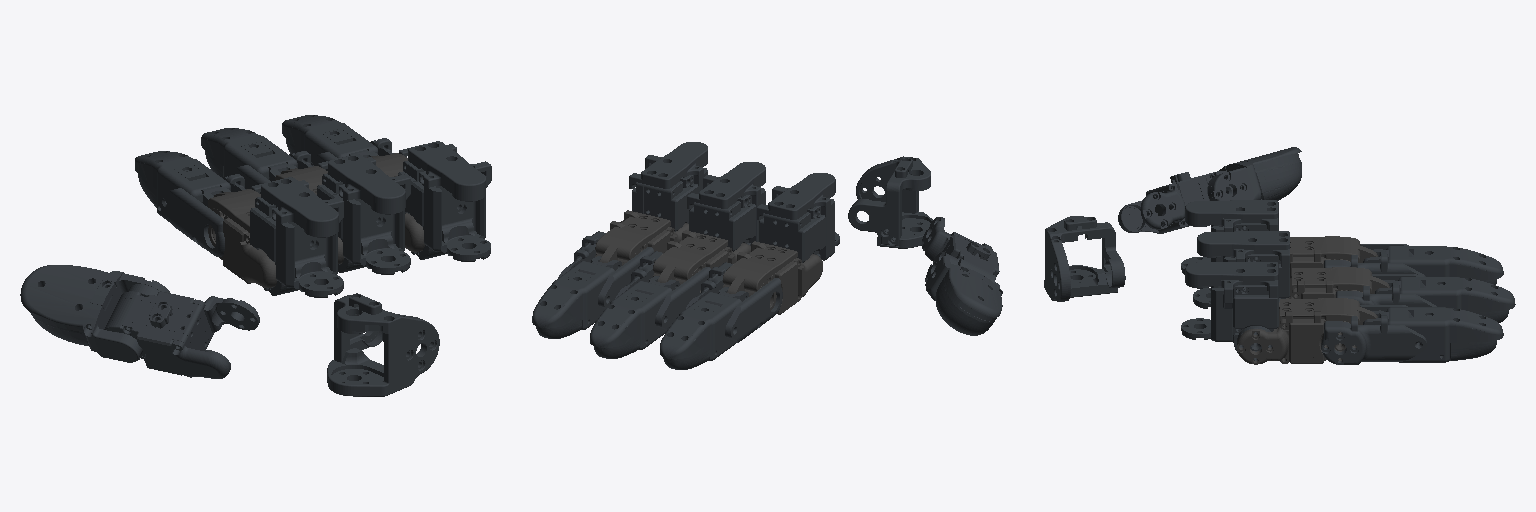
URDF robot description (deephand_hand_urdf):
<robot name="deephand_hand_urdf">
  <link name="index_dip_link">
    <inertial>
      <mass value="0.0114567" />
      <origin xyz="0.000380437 0.00968654 -0.00850519" rpy="0 -0 0" />
      <inertia ixx="2.03595e-06" ixy="-8.89059e-08" ixz="7.028e-11" iyy="6.08148e-07" iyz="-1.25405e-09" izz="2.06249e-06" />
    </inertial>
    <visual>
      <origin xyz="1.37822e-09 -0.033 0" rpy="0 -0 0" />
      <geometry>
        <mesh filename="package://deephand_hand_urdf/meshes/Finger_DIP.stl" scale="1 1 1" />
      </geometry>
      <material name="0.262745_0.282353_0.301961_0.000000_0.000000">
        <color rgba="0.262745 0.282353 0.301961 1" />
      </material>
    </visual>
  </link>
  <link name="ring_dip_link">
    <inertial>
      <mass value="0.0114567" />
      <origin xyz="0.000380437 0.00968654 -0.00850519" rpy="0 -0 0" />
      <inertia ixx="2.03595e-06" ixy="-8.89059e-08" ixz="7.028e-11" iyy="6.08148e-07" iyz="-1.25405e-09" izz="2.06249e-06" />
    </inertial>
    <visual>
      <origin xyz="1.37822e-09 -0.033 0" rpy="0 -0 0" />
      <geometry>
        <mesh filename="package://deephand_hand_urdf/meshes/Finger_DIP.stl" scale="1 1 1" />
      </geometry>
      <material name="0.262745_0.282353_0.301961_0.000000_0.000000">
        <color rgba="0.262745 0.282353 0.301961 1" />
      </material>
    </visual>
  </link>
  <link name="middle_dip_link">
    <inertial>
      <mass value="0.0114567" />
      <origin xyz="0.000380437 0.00968654 -0.00850519" rpy="0 -0 0" />
      <inertia ixx="2.03595e-06" ixy="-8.89059e-08" ixz="7.028e-11" iyy="6.08148e-07" iyz="-1.25405e-09" izz="2.06249e-06" />
    </inertial>
    <visual>
      <origin xyz="1.37822e-09 -0.033 0" rpy="0 -0 0" />
      <geometry>
        <mesh filename="package://deephand_hand_urdf/meshes/Finger_DIP.stl" scale="1 1 1" />
      </geometry>
      <material name="0.262745_0.282353_0.301961_0.000000_0.000000">
        <color rgba="0.262745 0.282353 0.301961 1" />
      </material>
    </visual>
  </link>
  <link name="index_dip_linkage">
    <inertial>
      <mass value="0.00161266" />
      <origin xyz="0.00154845 0.016128 -0.00467179" rpy="0 -0 0" />
      <inertia ixx="1.85154e-07" ixy="3.61565e-09" ixz="-1.81565e-09" iyy="4.94859e-08" iyz="6.8775e-08" izz="1.55131e-07" />
    </inertial>
    <visual>
      <origin xyz="-0.0267056 -0.0912302 -0.00791515" rpy="0 -0 0" />
      <geometry>
        <mesh filename="package://deephand_hand_urdf/meshes/Finger_DIP_Linkage.stl" scale="1 1 1" />
      </geometry>
      <material name="0.262745_0.282353_0.301961_0.000000_0.000000">
        <color rgba="0.262745 0.282353 0.301961 1" />
      </material>
    </visual>
  </link>
  <link name="ring_dip_linkage">
    <inertial>
      <mass value="0.00161266" />
      <origin xyz="0.00154845 0.016128 -0.00467179" rpy="0 -0 0" />
      <inertia ixx="1.85154e-07" ixy="3.61565e-09" ixz="-1.81565e-09" iyy="4.94859e-08" iyz="6.8775e-08" izz="1.55131e-07" />
    </inertial>
    <visual>
      <origin xyz="-0.0267056 -0.0912302 -0.00791515" rpy="0 -0 0" />
      <geometry>
        <mesh filename="package://deephand_hand_urdf/meshes/Finger_DIP_Linkage.stl" scale="1 1 1" />
      </geometry>
      <material name="0.262745_0.282353_0.301961_0.000000_0.000000">
        <color rgba="0.262745 0.282353 0.301961 1" />
      </material>
    </visual>
  </link>
  <link name="middle_dip_linkage">
    <inertial>
      <mass value="0.00161266" />
      <origin xyz="0.00154845 0.016128 -0.00467179" rpy="0 -0 0" />
      <inertia ixx="1.85154e-07" ixy="3.61565e-09" ixz="-1.81565e-09" iyy="4.94859e-08" iyz="6.8775e-08" izz="1.55131e-07" />
    </inertial>
    <visual>
      <origin xyz="-0.0267056 -0.0912302 -0.00791515" rpy="0 -0 0" />
      <geometry>
        <mesh filename="package://deephand_hand_urdf/meshes/Finger_DIP_Linkage.stl" scale="1 1 1" />
      </geometry>
      <material name="0.262745_0.282353_0.301961_0.000000_0.000000">
        <color rgba="0.262745 0.282353 0.301961 1" />
      </material>
    </visual>
  </link>
  <link name="index_mcp_pitch_link">
    <inertial>
      <mass value="0.0192133" />
      <origin xyz="-0.0126413 0.0246664 0.00129496" rpy="0 -0 0" />
      <inertia ixx="3.15147e-06" ixy="8.95406e-08" ixz="2.96071e-08" iyy="1.55904e-06" iyz="-8.16764e-08" izz="3.41992e-06" />
    </inertial>
    <visual>
      <origin xyz="-0.0429682 -0.0441386 -0.003" rpy="0 -0 0" />
      <geometry>
        <mesh filename="package://deephand_hand_urdf/meshes/Finger_MCP_Pitch.stl" scale="1 1 1" />
      </geometry>
      <material name="0.301961_0.301961_0.301961_0.000000_0.000000">
        <color rgba="0.301961 0.301961 0.301961 1" />
      </material>
    </visual>
  </link>
  <link name="ring_mcp_pitch_link">
    <inertial>
      <mass value="0.0192133" />
      <origin xyz="-0.0126413 0.0246664 0.00129496" rpy="0 -0 0" />
      <inertia ixx="3.15147e-06" ixy="8.95406e-08" ixz="2.96071e-08" iyy="1.55904e-06" iyz="-8.16764e-08" izz="3.41992e-06" />
    </inertial>
    <visual>
      <origin xyz="-0.0429682 -0.0441386 -0.003" rpy="0 -0 0" />
      <geometry>
        <mesh filename="package://deephand_hand_urdf/meshes/Finger_MCP_Pitch.stl" scale="1 1 1" />
      </geometry>
      <material name="0.301961_0.301961_0.301961_0.000000_0.000000">
        <color rgba="0.301961 0.301961 0.301961 1" />
      </material>
    </visual>
  </link>
  <link name="middle_mcp_pitch_link">
    <inertial>
      <mass value="0.0192133" />
      <origin xyz="-0.0126413 0.0246664 0.00129496" rpy="0 -0 0" />
      <inertia ixx="3.15147e-06" ixy="8.95406e-08" ixz="2.96071e-08" iyy="1.55904e-06" iyz="-8.16764e-08" izz="3.41992e-06" />
    </inertial>
    <visual>
      <origin xyz="-0.0429682 -0.0441386 -0.003" rpy="0 -0 0" />
      <geometry>
        <mesh filename="package://deephand_hand_urdf/meshes/Finger_MCP_Pitch.stl" scale="1 1 1" />
      </geometry>
      <material name="0.301961_0.301961_0.301961_0.000000_0.000000">
        <color rgba="0.301961 0.301961 0.301961 1" />
      </material>
    </visual>
  </link>
  <link name="index_mcp_abad_link">
    <inertial>
      <mass value="0.0222197" />
      <origin xyz="0.000159253 0.0197001 0.00842998" rpy="0 -0 0" />
      <inertia ixx="4.03009e-06" ixy="-1.46799e-08" ixz="6.78573e-08" iyy="3.26611e-06" iyz="2.59031e-07" izz="2.45075e-06" />
    </inertial>
    <visual>
      <origin xyz="-0.0306 -0.0203 -0.006" rpy="0 -0 0" />
      <geometry>
        <mesh filename="package://deephand_hand_urdf/meshes/Finger_MCP_Yaw.stl" scale="1 1 1" />
      </geometry>
      <material name="0.262745_0.282353_0.301961_0.000000_0.000000">
        <color rgba="0.262745 0.282353 0.301961 1" />
      </material>
    </visual>
  </link>
  <link name="ring_mcp_abad_link">
    <inertial>
      <mass value="0.0222197" />
      <origin xyz="0.000159253 0.0197001 0.00842998" rpy="0 -0 0" />
      <inertia ixx="4.03009e-06" ixy="-1.46799e-08" ixz="6.78573e-08" iyy="3.26611e-06" iyz="2.59031e-07" izz="2.45075e-06" />
    </inertial>
    <visual>
      <origin xyz="-0.0306 -0.0203 -0.006" rpy="0 -0 0" />
      <geometry>
        <mesh filename="package://deephand_hand_urdf/meshes/Finger_MCP_Yaw.stl" scale="1 1 1" />
      </geometry>
      <material name="0.262745_0.282353_0.301961_0.000000_0.000000">
        <color rgba="0.262745 0.282353 0.301961 1" />
      </material>
    </visual>
  </link>
  <link name="middle_mcp_abad_link">
    <inertial>
      <mass value="0.0222197" />
      <origin xyz="0.000159253 0.0197001 0.00842998" rpy="0 -0 0" />
      <inertia ixx="4.03009e-06" ixy="-1.46799e-08" ixz="6.78573e-08" iyy="3.26611e-06" iyz="2.59031e-07" izz="2.45075e-06" />
    </inertial>
    <visual>
      <origin xyz="-0.0306 -0.0203 -0.006" rpy="0 -0 0" />
      <geometry>
        <mesh filename="package://deephand_hand_urdf/meshes/Finger_MCP_Yaw.stl" scale="1 1 1" />
      </geometry>
      <material name="0.262745_0.282353_0.301961_0.000000_0.000000">
        <color rgba="0.262745 0.282353 0.301961 1" />
      </material>
    </visual>
  </link>
  <link name="index_pip_link">
    <inertial>
      <mass value="0.00581908" />
      <origin xyz="-0.0112551 0.0132696 -0.000739039" rpy="0 -0 0" />
      <inertia ixx="7.71892e-07" ixy="1.04945e-07" ixz="-3.43546e-08" iyy="7.98942e-07" iyz="3.40336e-08" izz="1.24735e-06" />
    </inertial>
    <visual>
      <origin xyz="-0.0420208 -0.0796259 -0.00293659" rpy="0 -0 0" />
      <geometry>
        <mesh filename="package://deephand_hand_urdf/meshes/Finger_PIP.stl" scale="1 1 1" />
      </geometry>
      <material name="0.262745_0.282353_0.301961_0.000000_0.000000">
        <color rgba="0.262745 0.282353 0.301961 1" />
      </material>
    </visual>
  </link>
  <link name="ring_pip_link">
    <inertial>
      <mass value="0.00581908" />
      <origin xyz="-0.0112551 0.0132696 -0.000739039" rpy="0 -0 0" />
      <inertia ixx="7.71892e-07" ixy="1.04945e-07" ixz="-3.43546e-08" iyy="7.98942e-07" iyz="3.40336e-08" izz="1.24735e-06" />
    </inertial>
    <visual>
      <origin xyz="-0.0420208 -0.0796259 -0.00293659" rpy="0 -0 0" />
      <geometry>
        <mesh filename="package://deephand_hand_urdf/meshes/Finger_PIP.stl" scale="1 1 1" />
      </geometry>
      <material name="0.262745_0.282353_0.301961_0.000000_0.000000">
        <color rgba="0.262745 0.282353 0.301961 1" />
      </material>
    </visual>
  </link>
  <link name="middle_pip_link">
    <inertial>
      <mass value="0.00581908" />
      <origin xyz="-0.0112551 0.0132696 -0.000739039" rpy="0 -0 0" />
      <inertia ixx="7.71892e-07" ixy="1.04945e-07" ixz="-3.43546e-08" iyy="7.98942e-07" iyz="3.40336e-08" izz="1.24735e-06" />
    </inertial>
    <visual>
      <origin xyz="-0.0420208 -0.0796259 -0.00293659" rpy="0 -0 0" />
      <geometry>
        <mesh filename="package://deephand_hand_urdf/meshes/Finger_PIP.stl" scale="1 1 1" />
      </geometry>
      <material name="0.262745_0.282353_0.301961_0.000000_0.000000">
        <color rgba="0.262745 0.282353 0.301961 1" />
      </material>
    </visual>
  </link>
  <link name="palm_base">
    <inertial>
      <mass value="0.24634" />
      <origin xyz="-0.00237079 0.0588036 0.00566891" rpy="0 -0 0" />
      <inertia ixx="0.000200211" ixy="2.35003e-06" ixz="1.91386e-06" iyy="0.000209298" iyz="1.1821e-06" izz="0.000278645" />
    </inertial>
    <visual>
      <origin xyz="0.0121498 0.0740889 -0.0141495" rpy="0 -0 0" />
      <geometry>
        <mesh filename="package://deephand_hand_urdf/meshes/Palm_URDF.stl" scale="1 1 1" />
      </geometry>
      <material name="0.262745_0.282353_0.301961_0.000000_0.000000">
        <color rgba="0.262745 0.282353 0.301961 1" />
      </material>
    </visual>
  </link>
  <link name="root" />
  <link name="thumb_cmc_base">
    <inertial>
      <mass value="0.00724593" />
      <origin xyz="-0.0109214 -0.0101644 -0.000328849" rpy="0 -0 0" />
      <inertia ixx="1.49172e-06" ixy="-1.05834e-07" ixz="2.49017e-08" iyy="1.14901e-06" iyz="4.64569e-08" izz="1.17959e-06" />
    </inertial>
    <visual>
      <origin xyz="0 0.003 -1.65327e-19" rpy="0 -0 0" />
      <geometry>
        <mesh filename="package://deephand_hand_urdf/meshes/Thumb_CMC_Base_URDF.stl" scale="1 1 1" />
      </geometry>
      <material name="0.262745_0.282353_0.301961_0.000000_0.000000">
        <color rgba="0.262745 0.282353 0.301961 1" />
      </material>
    </visual>
  </link>
  <link name="thumb_cmc_side">
    <inertial>
      <mass value="0.0349478" />
      <origin xyz="0.0130371 -0.0185505 -0.0120644" rpy="0 -0 0" />
      <inertia ixx="5.84548e-06" ixy="3.65068e-06" ixz="-1.02616e-07" iyy="9.61373e-06" iyz="1.71331e-08" izz="1.29499e-05" />
    </inertial>
    <visual>
      <origin xyz="0.00373482 0.00298844 0.012464" rpy="0 -0 0" />
      <geometry>
        <mesh filename="package://deephand_hand_urdf/meshes/Thumb_CMC_Side_URDF.stl" scale="1 1 1" />
      </geometry>
      <material name="0.262745_0.282353_0.301961_0.000000_0.000000">
        <color rgba="0.262745 0.282353 0.301961 1" />
      </material>
    </visual>
  </link>
  <link name="thumb_dip">
    <inertial>
      <mass value="0.0153535" />
      <origin xyz="-0.0012422 0.0193478 -0.0152437" rpy="0 -0 0" />
      <inertia ixx="2.30105e-06" ixy="3.83996e-07" ixz="6.60299e-08" iyy="1.57335e-06" iyz="3.57473e-07" izz="2.09634e-06" />
    </inertial>
    <visual>
      <origin xyz="0.0563414 -0.0443621 0.0423934" rpy="0 -0 0" />
      <geometry>
        <mesh filename="package://deephand_hand_urdf/meshes/Thumb_DIP_URDF.stl" scale="1 1 1" />
      </geometry>
      <material name="0.262745_0.282353_0.301961_0.000000_0.000000">
        <color rgba="0.262745 0.282353 0.301961 1" />
      </material>
    </visual>
  </link>
  <link name="thumb_mcp">
    <inertial>
      <mass value="0.0171236" />
      <origin xyz="-0.000681034 0.0215445 -0.0162457" rpy="0 -0 0" />
      <inertia ixx="2.79847e-06" ixy="4.31731e-07" ixz="5.72294e-08" iyy="1.54917e-06" iyz="3.89179e-07" izz="2.61115e-06" />
    </inertial>
    <visual>
      <origin xyz="0.0464064 -0.0114744 0.0334521" rpy="0 -0 0" />
      <geometry>
        <mesh filename="package://deephand_hand_urdf/meshes/Thumb_MCP_URDF.stl" scale="1 1 1" />
      </geometry>
      <material name="0.262745_0.282353_0.301961_0.000000_0.000000">
        <color rgba="0.262745 0.282353 0.301961 1" />
      </material>
    </visual>
  </link>
  <joint name="fastened_1_0" type="fixed">
    <origin xyz="0 0 -1.73472e-18" rpy="0 -0 0" />
    <axis xyz="0 1 0" />
    <parent link="root" />
    <child link="palm_base" />
    <limit effort="0" velocity="0" />
  </joint>
  <joint name="thumb_cmc_roll_joint" type="revolute">
    <origin xyz="-0.0275061 0.0291595 -0.0105" rpy="3.14159 -0 0.261799" />
    <axis xyz="0 1 0" />
    <limit lower="0" upper="2.15" effort="0" velocity="0" />
    <parent link="palm_base" />
    <child link="thumb_cmc_base" />
  </joint>
  <joint name="thumb_cmc_side_joint" type="revolute">
    <origin xyz="-0.0195022 -0.0117032 0.0095" rpy="0 0 -1.5708" />
    <axis xyz="0 0 -1" />
    <limit lower="-0.79" upper="0.9" effort="0" velocity="0" />
    <parent link="thumb_cmc_base" />
    <child link="thumb_cmc_side" />
  </joint>
  <joint name="index_pip_joint" type="revolute">
    <origin xyz="-0.00094743 0.0354873 -6.34058e-05" rpy="-0.000601558 -1.60602e-05 4.83058e-09" />
    <axis xyz="0.999644 0.0266882 0" />
    <limit lower="-1.45" upper="0" effort="0" velocity="0" />
    <parent link="index_mcp_pitch_link" />
    <child link="index_pip_link" />
  </joint>
  <joint name="index_mcp_abad_joint" type="revolute">
    <origin xyz="-0.0331 0.08715 -0.0065" rpy="-1.248e-16 7.70372e-34 -0.0266914" />
    <axis xyz="0 0 -1" />
    <limit lower="-0.79" upper="0.79" effort="0" velocity="0" />
    <parent link="palm_base" />
    <child link="index_mcp_abad_link" />
  </joint>
  <joint name="middle_pip_joint" type="revolute">
    <origin xyz="-0.00094743 0.0354873 -6.34058e-05" rpy="-0.000601558 -1.60602e-05 4.83058e-09" />
    <axis xyz="0.999644 0.0266882 0" />
    <limit lower="-1.45" upper="0" effort="0" velocity="0" />
    <parent link="middle_mcp_pitch_link" />
    <child link="middle_pip_link" />
  </joint>
  <joint name="thumb_mcp_joint" type="revolute">
    <origin xyz="0.0399963 -0.0190516 -0.017527" rpy="1.60312 -1.27969 3.05189" />
    <axis xyz="-0.532844 0.0683447 0.843449" />
    <limit lower="-1.57" upper="1.57" effort="0" velocity="0" />
    <parent link="thumb_cmc_side" />
    <child link="thumb_mcp" />
  </joint>
  <joint name="ring_pip_joint" type="revolute">
    <origin xyz="-0.00094743 0.0354873 -6.34058e-05" rpy="-0.000601558 -1.60602e-05 4.83058e-09" />
    <axis xyz="0.999644 0.0266882 0" />
    <limit lower="-1.45" upper="0" effort="0" velocity="0" />
    <parent link="ring_mcp_pitch_link" />
    <child link="ring_pip_link" />
  </joint>
  <joint name="index_dip_linkage_joint" type="revolute">
    <origin xyz="-0.0162626 0.0470916 0.00491515" rpy="-0.00140933 -3.7626e-05 2.65138e-08" />
    <axis xyz="0.999644 0.0266882 0" />
    <limit lower="-3.14" upper="3.14" effort="0" velocity="0" />
    <parent link="index_mcp_pitch_link" />
    <child link="index_dip_linkage" />
  </joint>
  <joint name="middle_mcp_abad_joint" type="revolute">
    <origin xyz="-0.0025 0.09215 -0.0065" rpy="-1.248e-16 4.99066e-30 -0.0266914" />
    <axis xyz="0 0 -1" />
    <limit lower="-0.79" upper="0.79" effort="0" velocity="0" />
    <parent link="palm_base" />
    <child link="middle_mcp_abad_link" />
  </joint>
  <joint name="middle_dip_linkage_joint" type="revolute">
    <origin xyz="-0.0162626 0.0470916 0.00491515" rpy="-0.00140933 -3.7626e-05 2.65138e-08" />
    <axis xyz="0.999644 0.0266882 0" />
    <limit lower="-3.14" upper="3.14" effort="0" velocity="0" />
    <parent link="middle_mcp_pitch_link" />
    <child link="middle_dip_linkage" />
  </joint>
  <joint name="thumb_dip_joint" type="revolute">
    <origin xyz="-0.00993505 0.0328877 -0.00894129" rpy="0.00142415 -0.000181036 -0.00225412" />
    <axis xyz="-0.532844 0.0683447 0.843449" />
    <limit lower="-1.57" upper="1.57" effort="0" velocity="0" />
    <parent link="thumb_mcp" />
    <child link="thumb_dip" />
  </joint>
  <joint name="ring_dip_linkage_joint" type="revolute">
    <origin xyz="-0.0162626 0.0470916 0.00491515" rpy="-0.00140933 -3.7626e-05 2.65138e-08" />
    <axis xyz="0.999644 0.0266882 0" />
    <limit lower="-3.14" upper="3.14" effort="0" velocity="0" />
    <parent link="ring_mcp_pitch_link" />
    <child link="ring_dip_linkage" />
  </joint>
  <joint name="ring_mcp_abad_joint" type="revolute">
    <origin xyz="0.0281 0.08715 -0.0065" rpy="-1.248e-16 4.99066e-30 -0.0266914" />
    <axis xyz="0 0 -1" />
    <limit lower="-0.79" upper="0.79" effort="0" velocity="0" />
    <parent link="palm_base" />
    <child link="ring_mcp_abad_link" />
  </joint>
  <joint name="index_mcp_pitch_joint" type="revolute">
    <origin xyz="0.0123682 0.0238386 -0.003" rpy="0.00178544 4.76673e-05 4.25537e-08" />
    <axis xyz="0.999644 0.0266882 0" />
    <limit lower="-1.8" upper="0" effort="0" velocity="0" />
    <parent link="index_mcp_abad_link" />
    <child link="index_mcp_pitch_link" />
  </joint>
  <joint name="middle_mcp_pitch_joint" type="revolute">
    <origin xyz="0.0123682 0.0238386 -0.003" rpy="0.00178544 4.76673e-05 4.25537e-08" />
    <axis xyz="0.999644 0.0266882 0" />
    <limit lower="-1.8" upper="0" effort="0" velocity="0" />
    <parent link="middle_mcp_abad_link" />
    <child link="middle_mcp_pitch_link" />
  </joint>
  <joint name="ring_mcp_pitch_joint" type="revolute">
    <origin xyz="0.0123682 0.0238386 -0.003" rpy="0.00178544 4.76673e-05 4.25537e-08" />
    <axis xyz="0.999644 0.0266882 0" />
    <limit lower="-1.8" upper="0" effort="0" velocity="0" />
    <parent link="ring_mcp_abad_link" />
    <child link="ring_mcp_pitch_link" />
  </joint>
  <joint name="index_dip_joint" type="revolute">
    <origin xyz="-0.00537911 0.0328682 -3.89616e-05" rpy="0 1.5708 0.0278757" />
    <axis xyz="0 0 1" />
    <limit lower="-3.14" upper="3.14" effort="0" velocity="0" />
    <parent link="index_pip_link" />
    <child link="index_dip_link" />
  </joint>
  <joint name="middle_dip_joint" type="revolute">
    <origin xyz="-0.00537911 0.0328682 -3.89616e-05" rpy="0 1.5708 0.0278757" />
    <axis xyz="0 0 1" />
    <limit lower="-3.14" upper="3.14" effort="0" velocity="0" />
    <parent link="middle_pip_link" />
    <child link="middle_dip_link" />
  </joint>
  <joint name="ring_dip_joint" type="revolute">
    <origin xyz="-0.00537911 0.0328682 -3.89616e-05" rpy="0 1.5708 0.0278757" />
    <axis xyz="0 0 1" />
    <limit lower="-3.14" upper="3.14" effort="0" velocity="0" />
    <parent link="ring_pip_link" />
    <child link="ring_dip_link" />
  </joint>
</robot>

--- Facts derived from the render (not from the file) ---
Views: 3 orthographic renders of the robot side by side, from view 1: azimuth 30°, elevation 25°; view 2: azimuth 150°, elevation 25°; view 3: azimuth 270°, elevation 25°.
Robot: deephand_hand_urdf — 21 links, 20 joints (19 revolute, 1 fixed); root link root; default pose: every joint at zero.
Links seen in each view (by area): view 1: thumb_mcp, index_mcp_abad_link, thumb_cmc_base, ring_mcp_abad_link, middle_mcp_abad_link, thumb_dip, index_mcp_pitch_link, index_dip_link, middle_dip_link, ring_dip_link, index_pip_link, ring_mcp_pitch_link (+3 smaller); view 2: thumb_cmc_base, index_mcp_abad_link, middle_mcp_abad_link, ring_mcp_abad_link, thumb_dip, middle_dip_link, index_dip_link, ring_dip_link, index_mcp_pitch_link, ring_mcp_pitch_link, middle_mcp_pitch_link, index_pip_link (+3 smaller); view 3: ring_mcp_abad_link, ring_mcp_pitch_link, thumb_cmc_base, ring_dip_link, ring_pip_link, thumb_mcp, thumb_dip, middle_mcp_abad_link, middle_dip_link, index_mcp_abad_link, index_dip_link, middle_mcp_pitch_link (+3 smaller).
Boxes of the visible links, bbox=[...] form: thumb_mcp: bbox=[104, 284, 259, 378]; index_mcp_abad_link: bbox=[250, 177, 343, 297]; thumb_cmc_base: bbox=[327, 293, 439, 396]; ring_mcp_abad_link: bbox=[398, 141, 491, 261]; middle_mcp_abad_link: bbox=[317, 154, 410, 274]; thumb_dip: bbox=[20, 265, 169, 362]; index_mcp_pitch_link: bbox=[208, 189, 276, 287]; index_dip_link: bbox=[135, 151, 230, 221]; middle_dip_link: bbox=[201, 128, 297, 179]; ring_dip_link: bbox=[282, 115, 377, 157]; index_pip_link: bbox=[159, 174, 261, 256]; ring_mcp_pitch_link: bbox=[367, 153, 424, 251]; thumb_cmc_base: bbox=[848, 156, 932, 248]; index_mcp_abad_link: bbox=[757, 173, 839, 262]; middle_mcp_abad_link: bbox=[687, 162, 765, 251]; ring_mcp_abad_link: bbox=[629, 142, 707, 231]; thumb_dip: bbox=[925, 252, 1002, 335]; middle_dip_link: bbox=[590, 281, 671, 358]; index_dip_link: bbox=[660, 292, 741, 369]; ring_dip_link: bbox=[532, 261, 614, 338]; index_mcp_pitch_link: bbox=[723, 241, 822, 314]; ring_mcp_pitch_link: bbox=[595, 210, 688, 265]; middle_mcp_pitch_link: bbox=[653, 230, 750, 292]; index_pip_link: bbox=[686, 262, 782, 342]; ring_mcp_abad_link: bbox=[1181, 262, 1278, 360]; ring_mcp_pitch_link: bbox=[1237, 298, 1377, 364]; thumb_cmc_base: bbox=[1044, 216, 1125, 301]; ring_dip_link: bbox=[1386, 307, 1503, 362]; ring_pip_link: bbox=[1321, 305, 1426, 364]; thumb_mcp: bbox=[1118, 171, 1241, 233]; thumb_dip: bbox=[1211, 147, 1301, 200]; middle_mcp_abad_link: bbox=[1193, 231, 1289, 308]; middle_dip_link: bbox=[1398, 277, 1515, 322]; index_mcp_abad_link: bbox=[1181, 200, 1278, 274]; index_dip_link: bbox=[1386, 246, 1503, 284]; middle_mcp_pitch_link: bbox=[1279, 267, 1389, 306].
Size in the robot's own frame: 0.1817 by 0.1982 by 0.0435 metres.
Meshes: 10 distinct files referenced, 18 mesh visuals loaded (8 binary STL); not drawn: 2 (reference not matched to a file when rendering).
